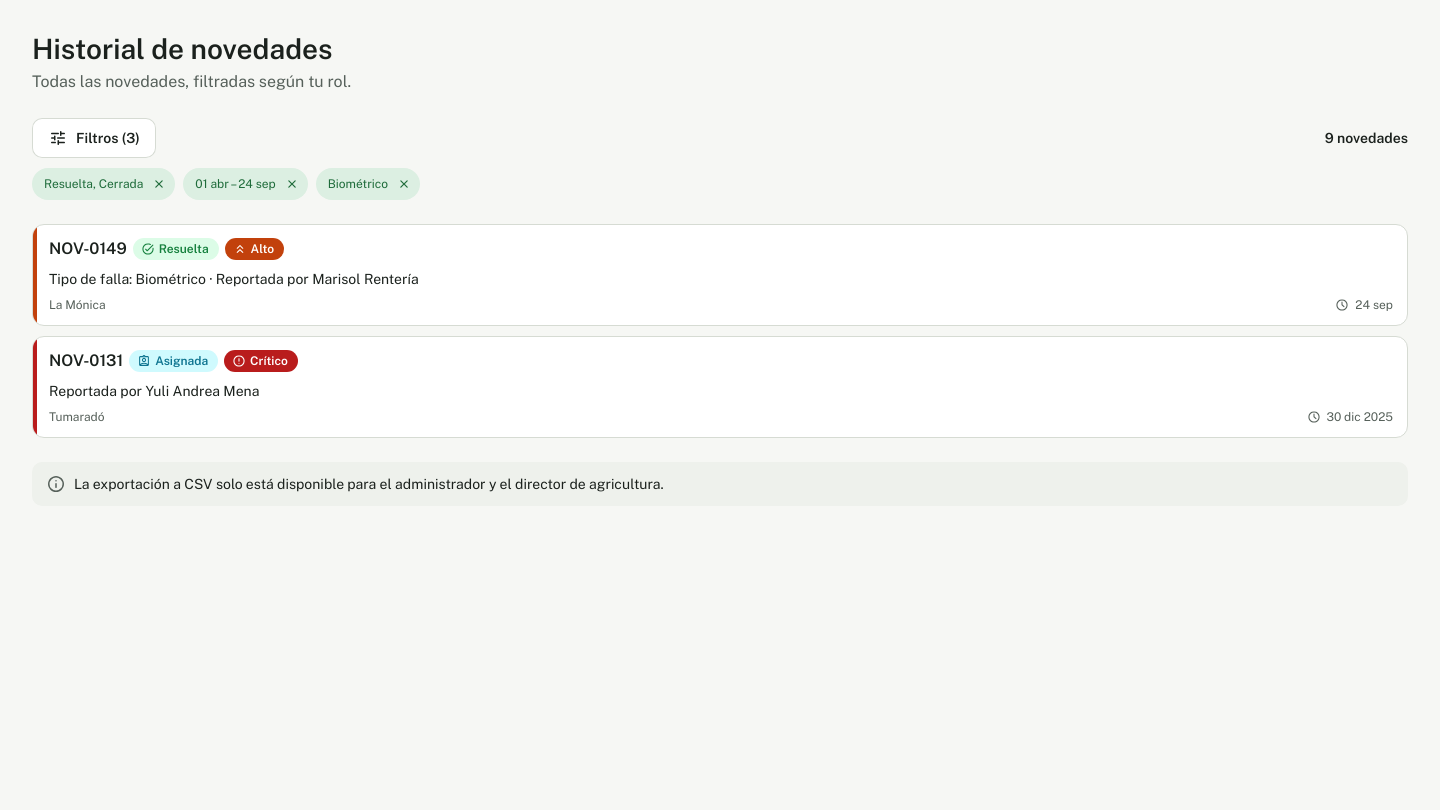
it: Pantalla 21-D · Historial en el teléfono (RF-19) › RF-19: «Filtros (3)» abre la hoja con los campos; los chips son cortos
The image size is (1440, 810).
Check: the list item "01 abr – 24 sep" is shown, box x1=183 y1=168 x2=308 y2=200
Check: the list item "Resuelta, Cerrada" is shown, box x1=32 y1=168 x2=175 y2=200
Step 1. Click the button "Filtros (3)" → coordinates (94, 138), box x1=32 y1=118 x2=156 y2=158
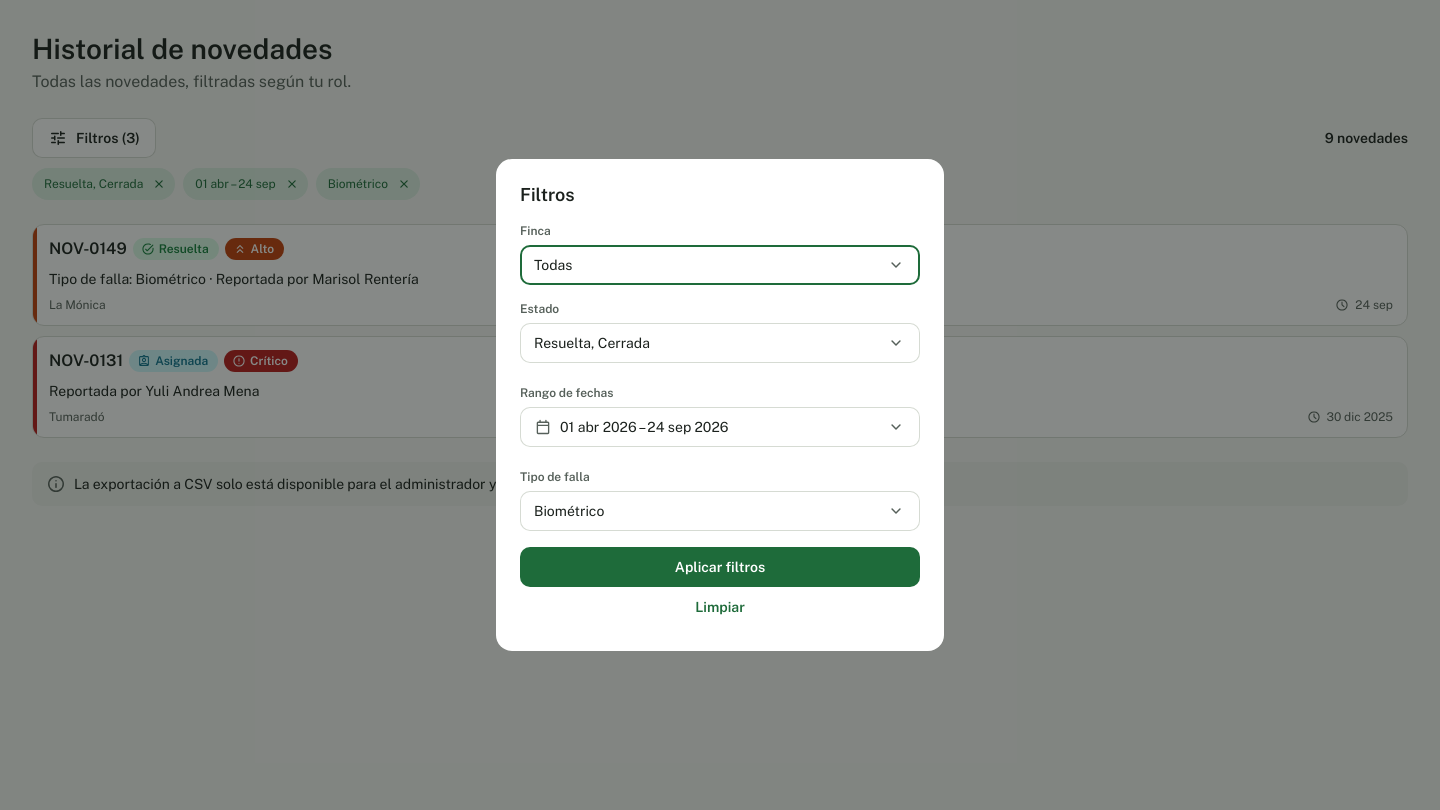
Check: the dropdown labelled "Finca" is shown, box x1=520 y1=245 x2=920 y2=285
Step 2. Click the button "Aplicar filtros" → coordinates (720, 567), box x1=520 y1=547 x2=920 y2=587
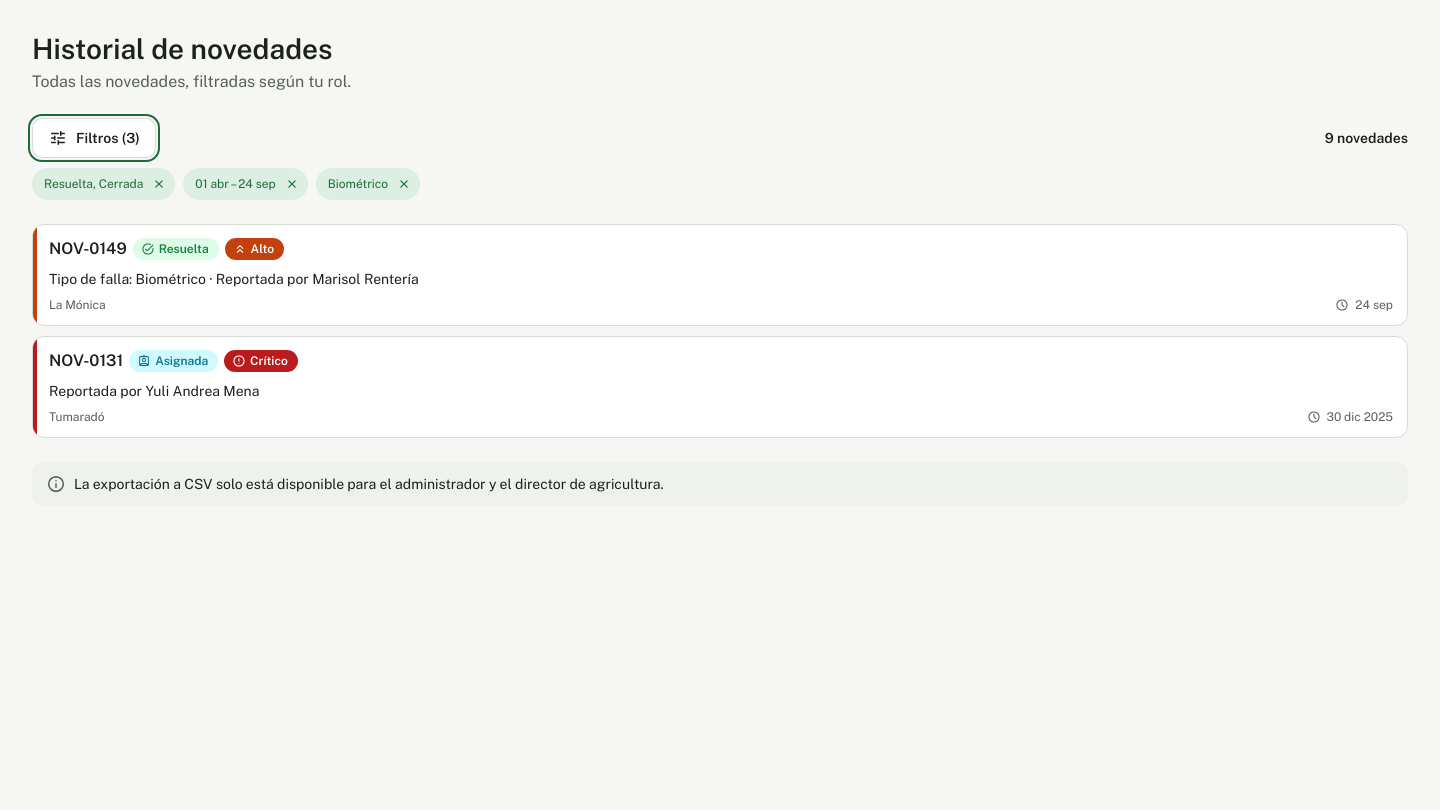
Check: the dialog is gone
